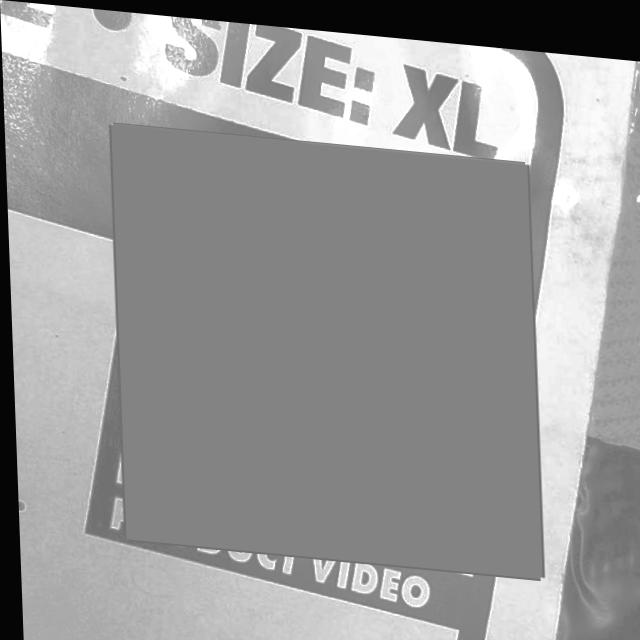qr_code: (110, 121, 538, 569)
